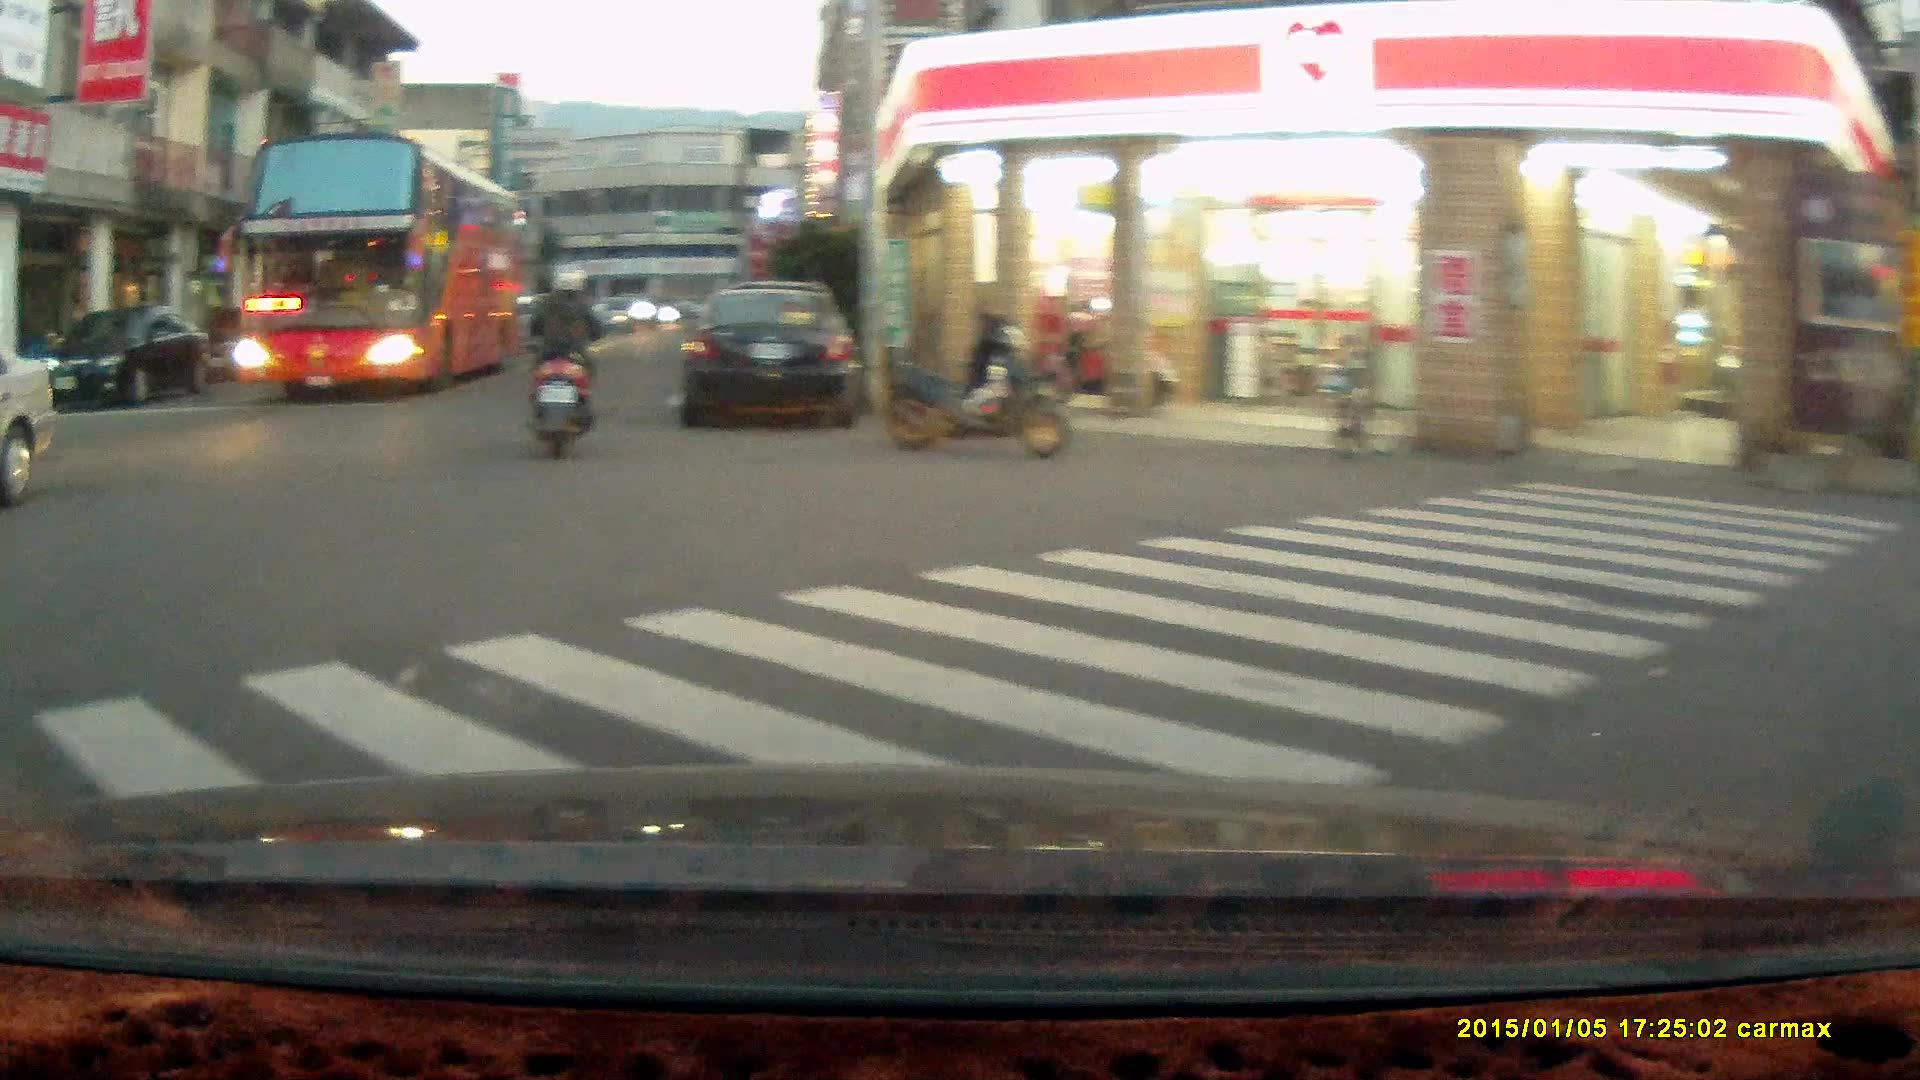rider: (515, 261, 605, 462)
vehicle: (234, 132, 536, 402), (677, 281, 867, 429), (32, 308, 216, 412)
